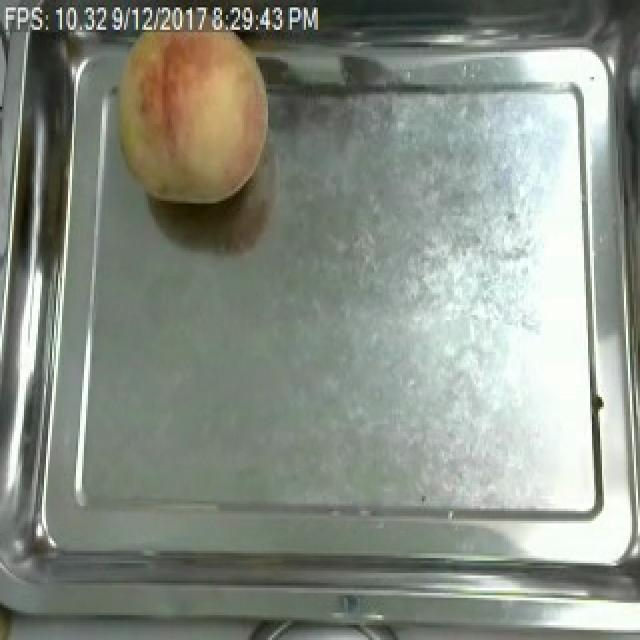Fruit: (98, 8, 280, 214)
